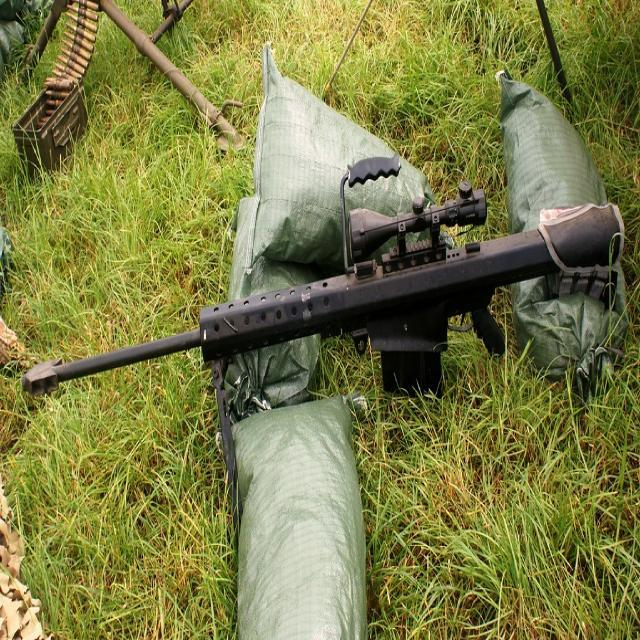rifle: (24, 180, 629, 430)
